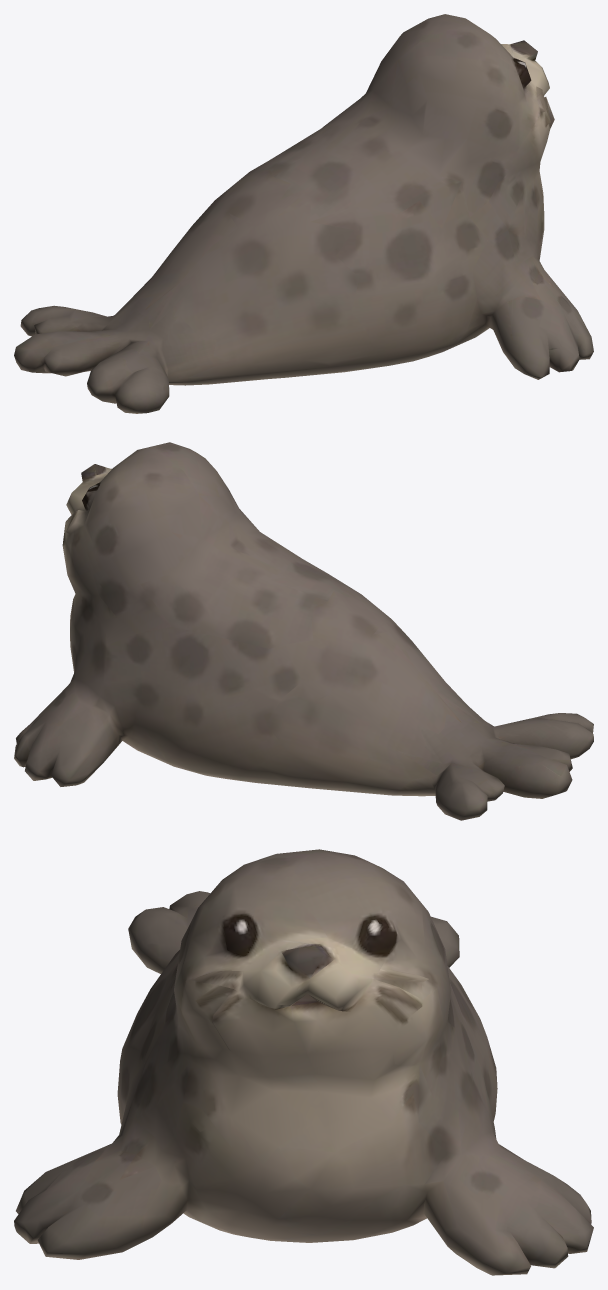
The model's file is seal.glb.
3 views of the same model, one above another, from view 1: azimuth 30°, elevation 25°; view 2: azimuth 150°, elevation 25°; view 3: azimuth 270°, elevation 25° (orthographic). The views are drawn at different scales.
Parts seen in each view (by area): view 1: tripo_node_5b64a5d6-aa82-4e02-8468-1be6755841ae; view 2: tripo_node_5b64a5d6-aa82-4e02-8468-1be6755841ae; view 3: tripo_node_5b64a5d6-aa82-4e02-8468-1be6755841ae.
Boxes of the visible parts, box(x1,y1,x2,y2) form: tripo_node_5b64a5d6-aa82-4e02-8468-1be6755841ae: box(14, 14, 593, 413); tripo_node_5b64a5d6-aa82-4e02-8468-1be6755841ae: box(14, 442, 593, 820); tripo_node_5b64a5d6-aa82-4e02-8468-1be6755841ae: box(14, 849, 593, 1275).
Bounding box in the file's own units: 1 × 0.5053 × 0.7092.
Materials: 1 (1 with a texture image).
